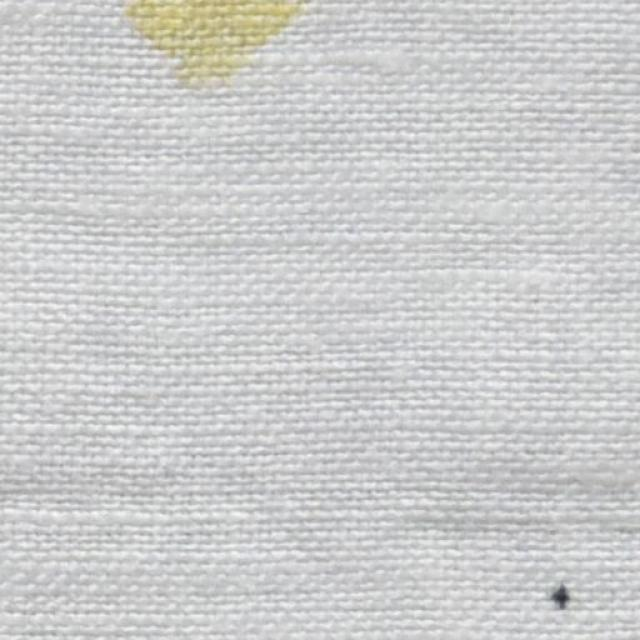Stain: (115, 0, 310, 98), (539, 579, 581, 619)
